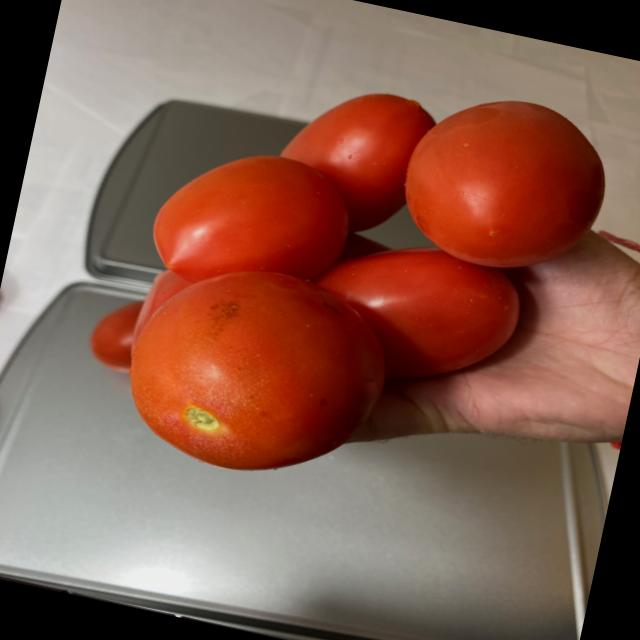tomato: (70, 22, 623, 530)
